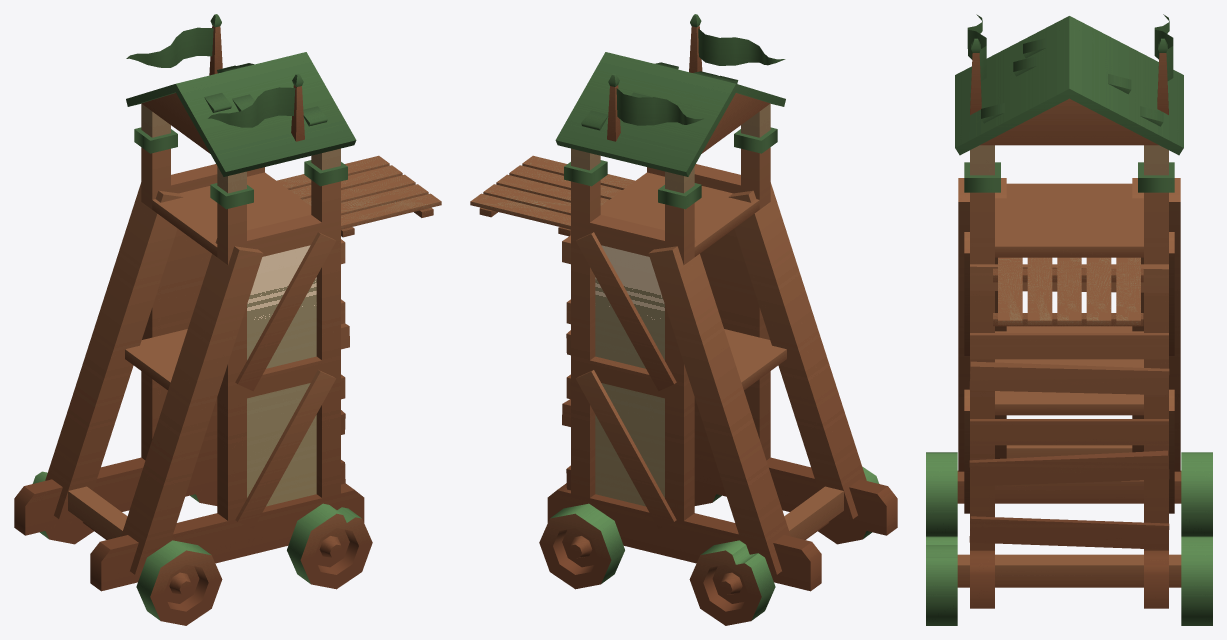
The model's file is torre_k.glb.
3 views of the same model, side by side, from view 1: azimuth 30°, elevation 25°; view 2: azimuth 150°, elevation 25°; view 3: azimuth 270°, elevation 25° (orthographic). The views are drawn at different scales.
Parts seen in each view (by area): view 1: siege-tower, wheel, wheel.001, wheel.002; view 2: siege-tower, wheel.003, wheel.002, wheel; view 3: siege-tower, wheel.001, wheel.003, wheel, wheel.002.
Part boxes in pixels (x1,y1,x2,y2): siege-tower: (14, 14, 441, 591); wheel: (136, 540, 222, 625); wheel.001: (287, 503, 372, 589); wheel.002: (32, 471, 93, 544); siege-tower: (470, 14, 897, 591); wheel.003: (539, 503, 624, 589); wheel.002: (689, 540, 775, 625); wheel: (818, 466, 879, 544); siege-tower: (955, 14, 1183, 608); wheel.001: (926, 536, 957, 625); wheel.003: (1181, 536, 1212, 625); wheel: (926, 452, 957, 536); wheel.002: (1181, 452, 1212, 536).
Size of the model in its own units: 4.77 by 6.5 by 2.93.
1 material, 1 textured.
